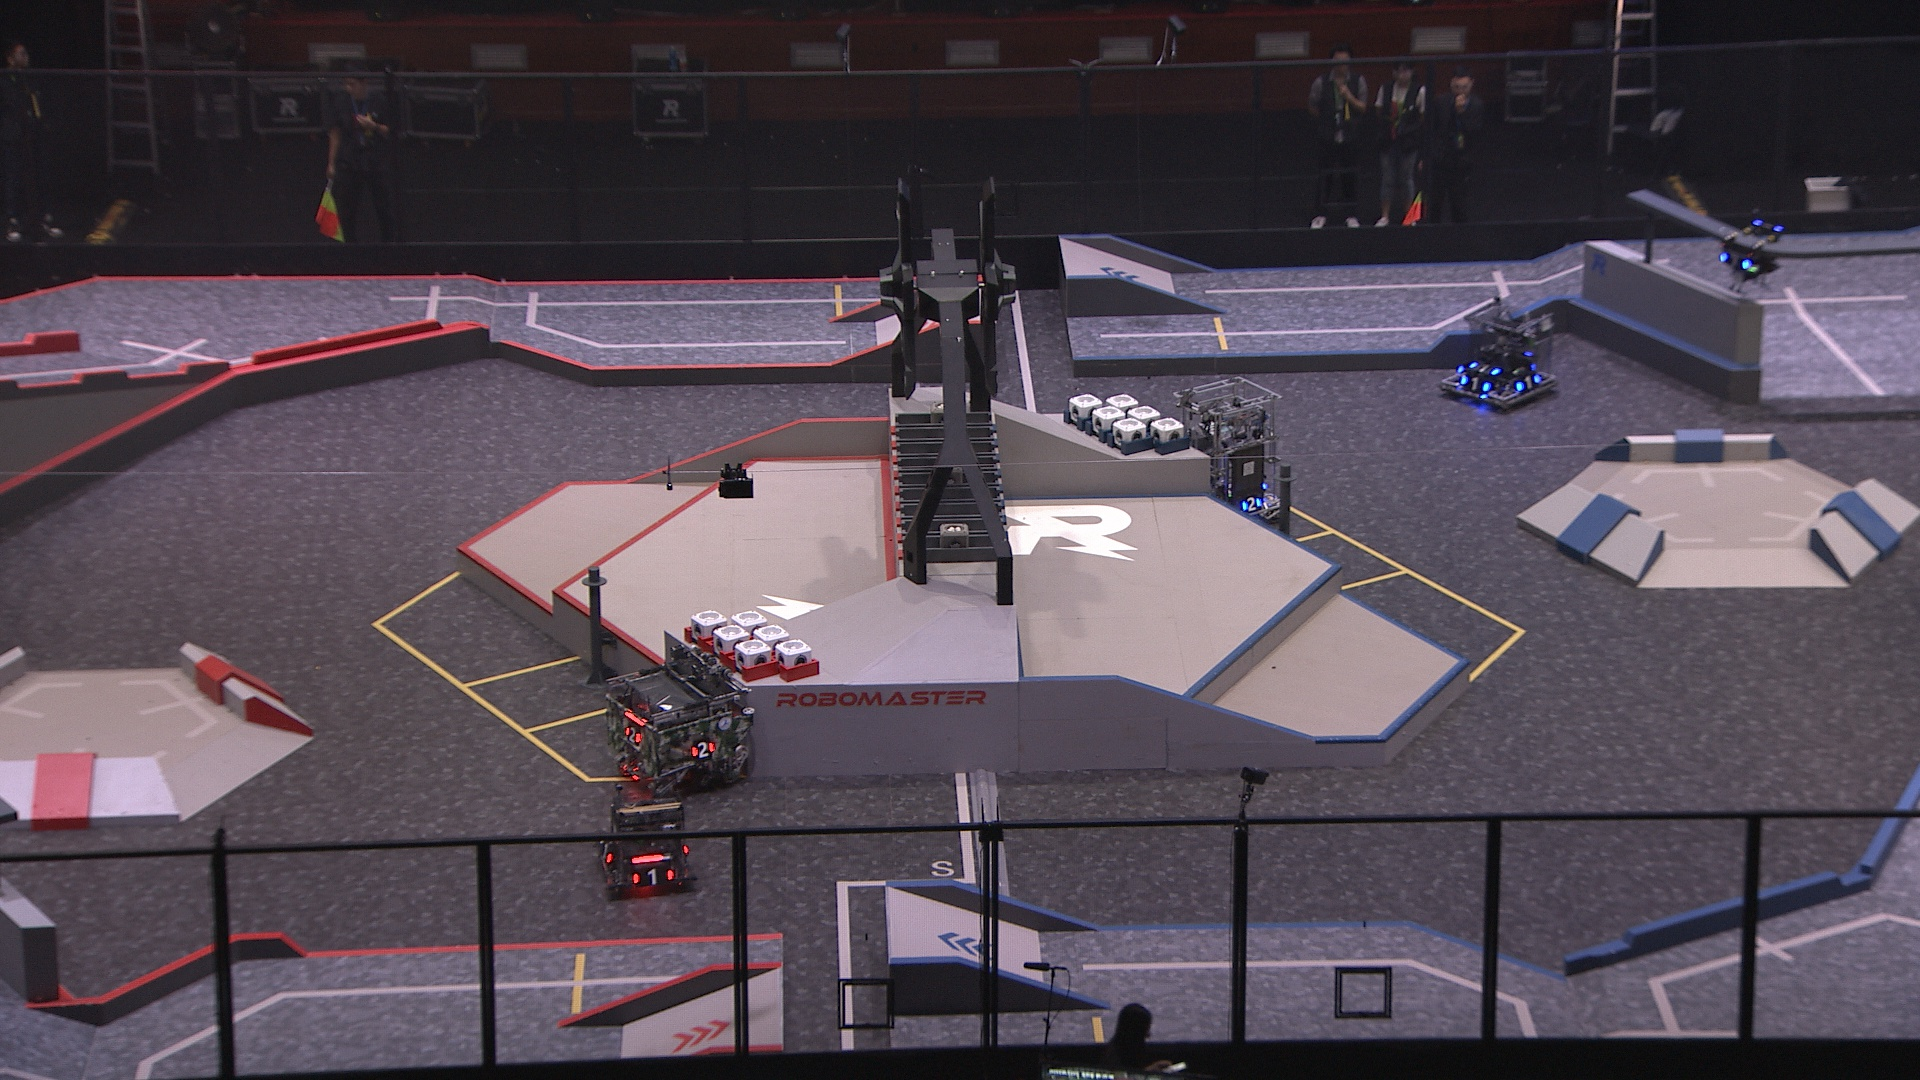armor: (632, 861, 678, 887), (1718, 249, 1754, 272), (1513, 368, 1542, 392), (1460, 375, 1494, 394), (1466, 360, 1506, 376), (688, 737, 716, 760), (1240, 495, 1266, 514), (622, 723, 644, 745), (596, 841, 615, 864)
car: (600, 636, 757, 798), (1171, 373, 1284, 531), (1437, 291, 1561, 410), (593, 785, 698, 899)
watcher: (1713, 206, 1788, 297)
